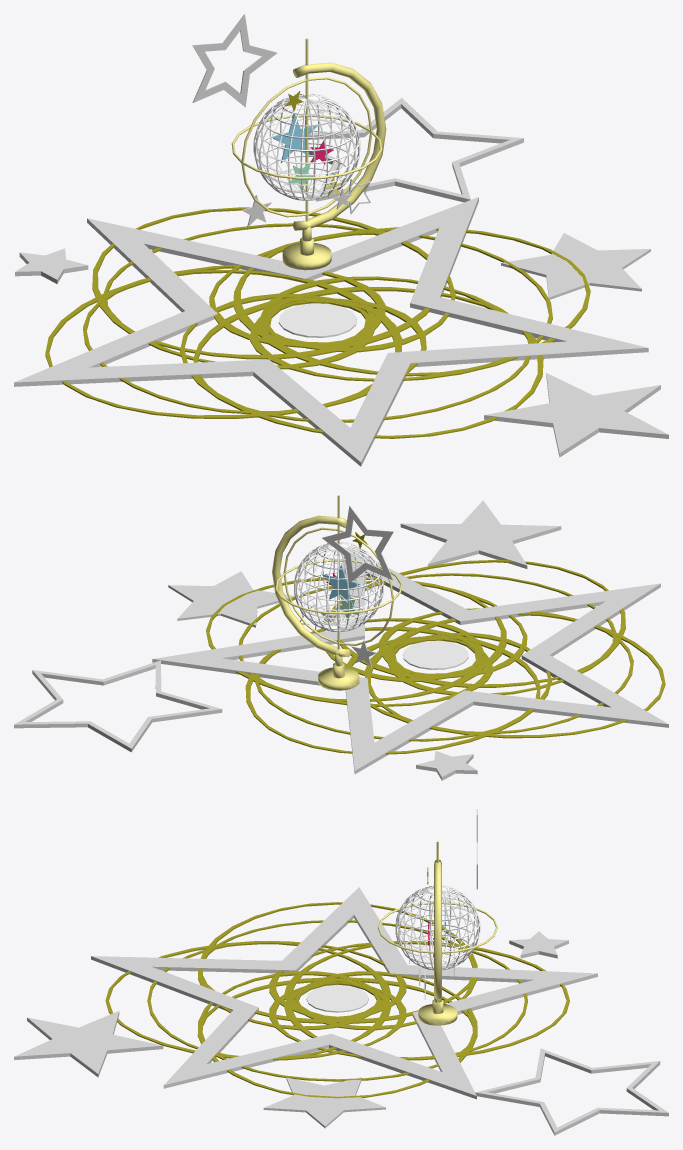
File: star.glb
3 renders of one model, top to bottom at view 1: azimuth 30°, elevation 25°; view 2: azimuth 150°, elevation 25°; view 3: azimuth 270°, elevation 25°, orthographic. The views are drawn at different scales.
Visible parts, largest first — view 1: Torus Knot.001; view 2: Torus Knot.001; view 3: Torus Knot.001.
Boxes of the visible parts, x1,y1,x2,y2 form: Torus Knot.001: [14, 14, 668, 466]; Torus Knot.001: [14, 495, 668, 780]; Torus Knot.001: [14, 809, 668, 1135].
Bounding box in the file's own units: 10.17 × 3.75 × 11.47.
